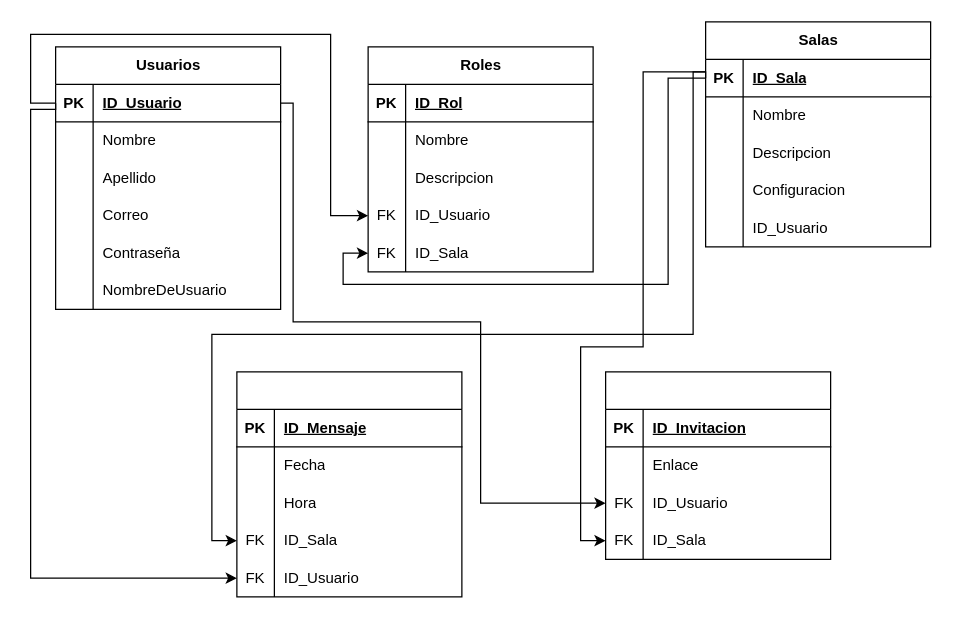
Some shapes in this 953 by 619 pixel diagram are drawn without their labels. Each missing label, with the box of its shape:
Invitaciones: (604, 371, 831, 559)
Mensajes: (236, 371, 462, 597)
